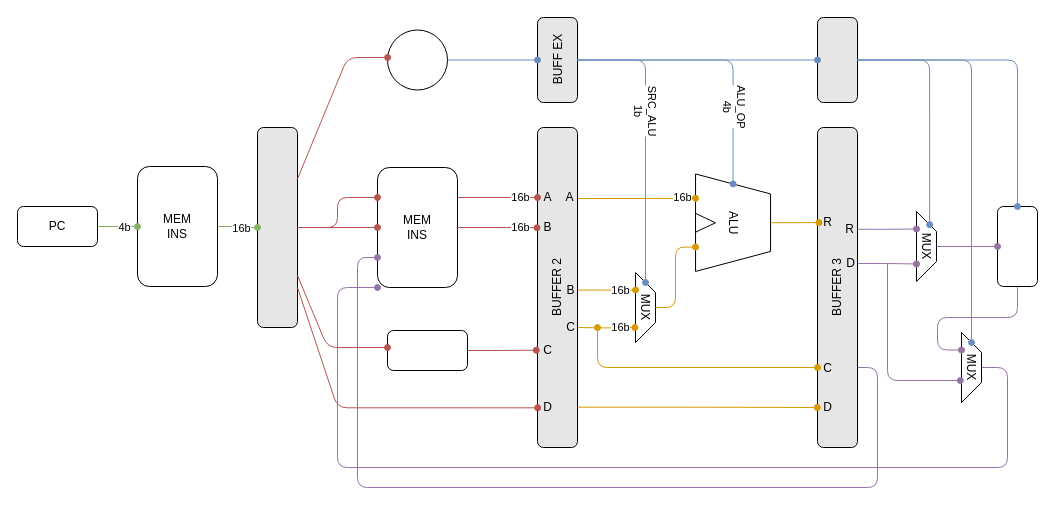
Some shapes in this 1055 by 513 pixel diagram are drawn without their labels. Here are the shapes that lost their labels. From the top down, the centre of each, then its label:
[417,59]: C_U
[837,59]: BUFF WB
[277,227]: BUFFER 1
[1017,246]: ACC
[427,350]: SIGN_EXT
